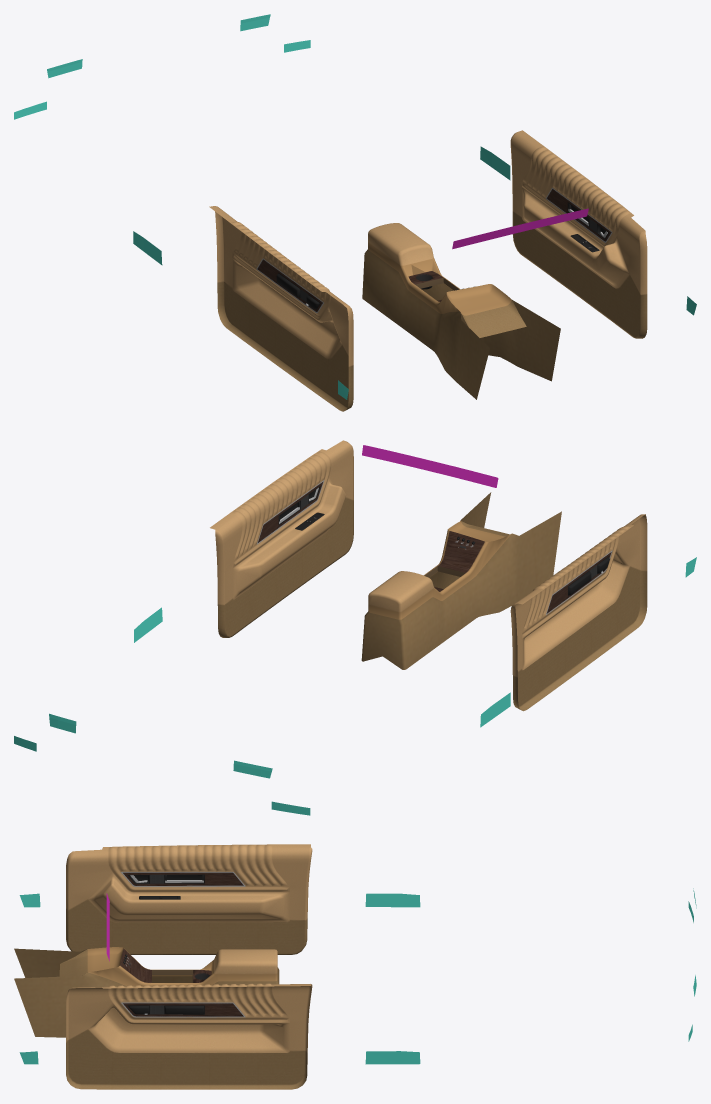
The model's file is UCP_Wendover.dae.
3 views of the same model, one above another, from view 1: azimuth 30°, elevation 25°; view 2: azimuth 150°, elevation 25°; view 3: azimuth 270°, elevation 25° (orthographic). The views are drawn at different scales.
Parts seen in each view (by area): view 1: wendover_doorpanel_FL, wendover_doorpanel_FR, wendover_console_b, wendover_console, wendover_gaugecluster, wendover_sidelettering; view 2: wendover_doorpanel_FL, wendover_console_b, wendover_doorpanel_FR, wendover_gaugecluster, wendover_sidelettering, wendover_lettering_sportSE, wendover_console; view 3: wendover_doorpanel_FR, wendover_doorpanel_FL, wendover_console_b, wendover_sidelettering, wendover_console.
Part boxes in pixels (x1=…): wendover_doorpanel_FL: x1=510, y1=130, x2=647, y2=338; wendover_doorpanel_FR: x1=209, y1=206, x2=353, y2=411; wendover_console_b: x1=362, y1=223, x2=560, y2=399; wendover_console: x1=446, y1=284, x2=526, y2=337; wendover_gaugecluster: x1=452, y1=208, x2=588, y2=249; wendover_sidelettering: x1=133, y1=146, x2=510, y2=265; wendover_doorpanel_FL: x1=210, y1=440, x2=353, y2=637; wendover_console_b: x1=361, y1=492, x2=561, y2=669; wendover_doorpanel_FR: x1=510, y1=514, x2=647, y2=711; wendover_gaugecluster: x1=362, y1=445, x2=498, y2=487; wendover_sidelettering: x1=134, y1=607, x2=510, y2=727; wendover_lettering_sportSE: x1=49, y1=713, x2=272, y2=777; wendover_console: x1=448, y1=521, x2=509, y2=541; wendover_doorpanel_FR: x1=66, y1=844, x2=312, y2=954; wendover_doorpanel_FL: x1=66, y1=983, x2=312, y2=1089; wendover_console_b: x1=14, y1=948, x2=279, y2=1037; wendover_sidelettering: x1=365, y1=893, x2=420, y2=1064; wendover_console: x1=59, y1=947, x2=123, y2=976.
Size of what is drawn, in the model's own units: 1.88 by 3.45 by 0.7023.
3 materials, 1 textured.
